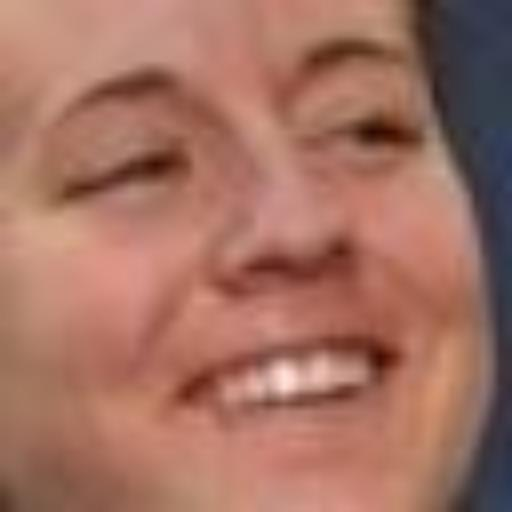left_eye: (313, 112, 425, 158)
left_lip_corner: (375, 334, 410, 374)
right_eye: (65, 146, 185, 198)
right_lip_corner: (166, 370, 228, 414)
